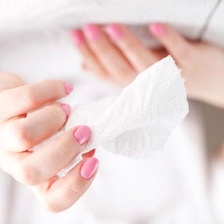tissue: (47, 48, 197, 184)
